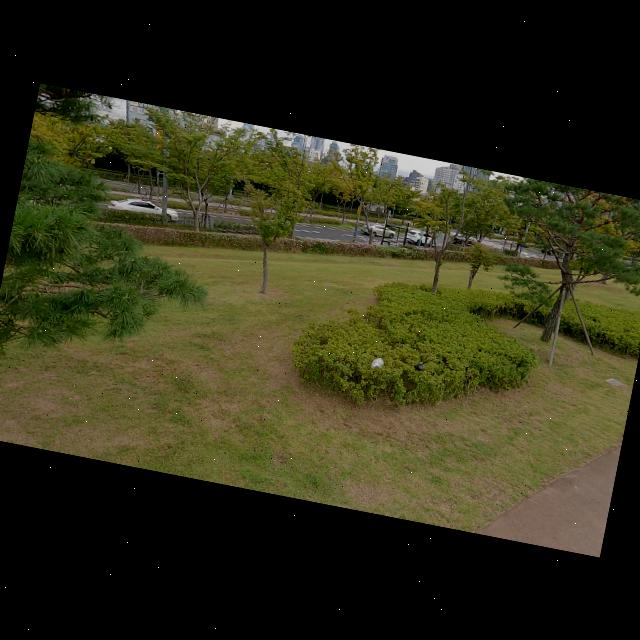trash: (366, 351, 389, 373), (411, 358, 427, 373)
